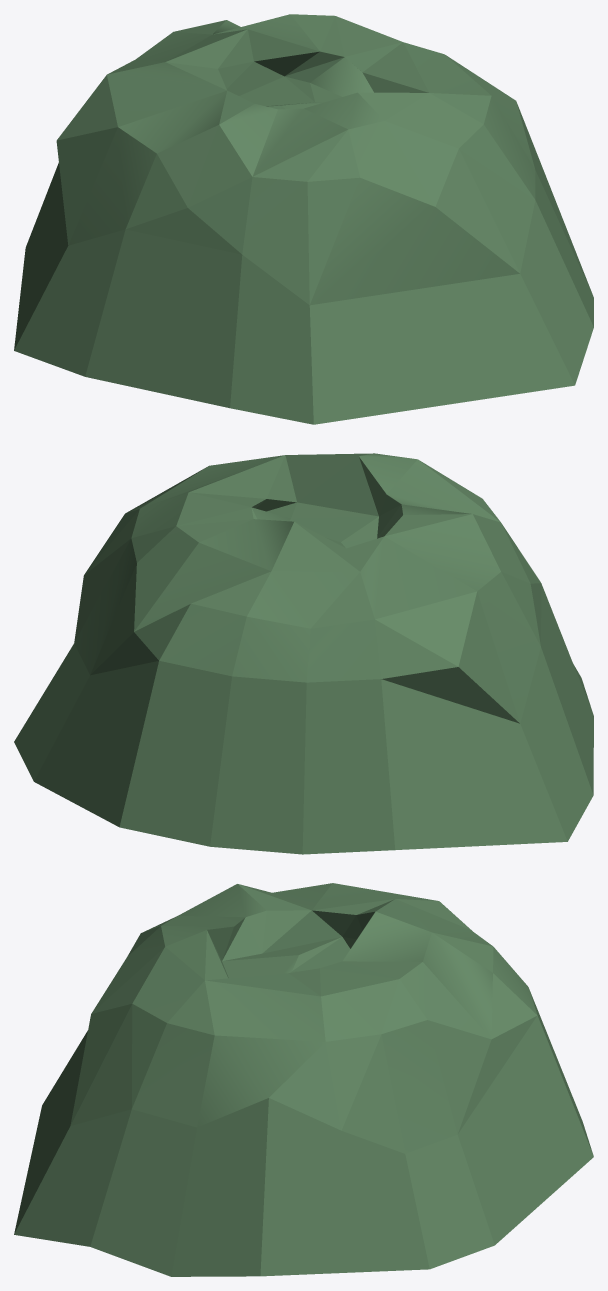
The model's file is Geyser.fbx.
3 views of the same model, one above another, from view 1: azimuth 30°, elevation 25°; view 2: azimuth 150°, elevation 25°; view 3: azimuth 270°, elevation 25° (orthographic). The views are drawn at different scales.
Visible parts, largest first — view 1: pSphere37; view 2: pSphere37; view 3: pSphere37.
Boxes of the visible parts, x1=… form: pSphere37: x1=14, y1=14, x2=593, y2=424; pSphere37: x1=14, y1=453, x2=593, y2=854; pSphere37: x1=14, y1=883, x2=593, y2=1276.
Bounding box in the file's own units: 2.35 × 1.13 × 2.34.
